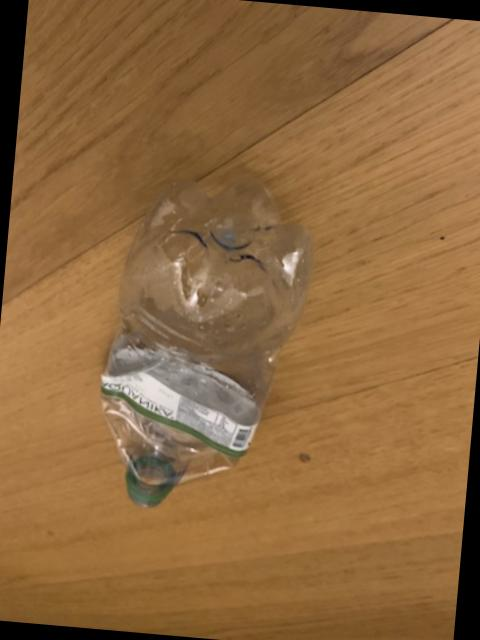plastic: (99, 181, 308, 507)
